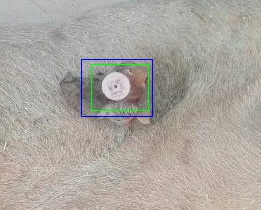text: (91, 64, 148, 110)
